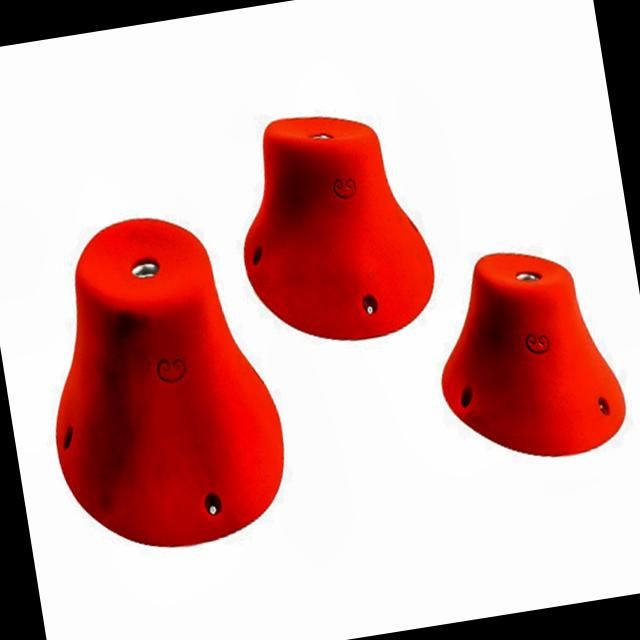Hold: (19, 201, 298, 566), (219, 92, 447, 358), (423, 232, 635, 476)
